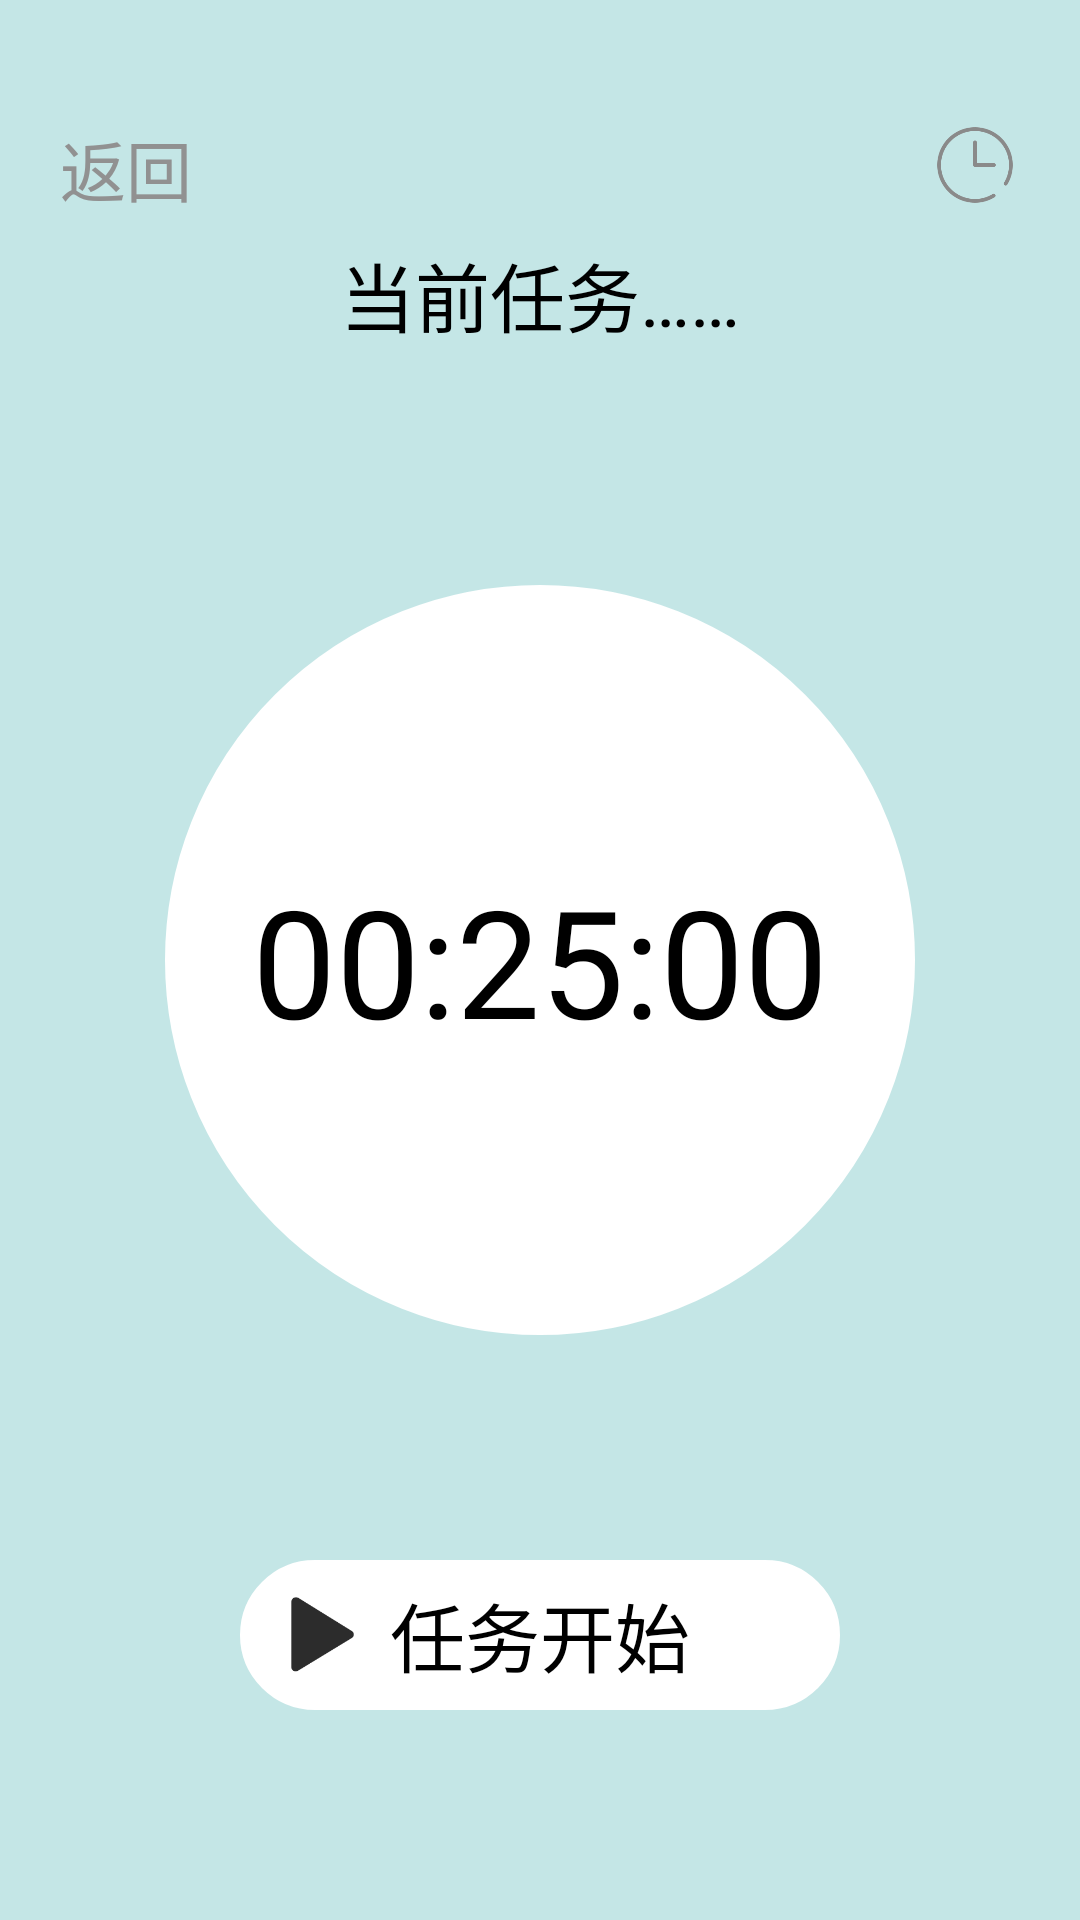

Icons on this 1080×1920 Android screen, each with its box as [x1,y1,x2,y2]:
clock: [937,127,1013,203]
play: [291,1597,354,1672]
